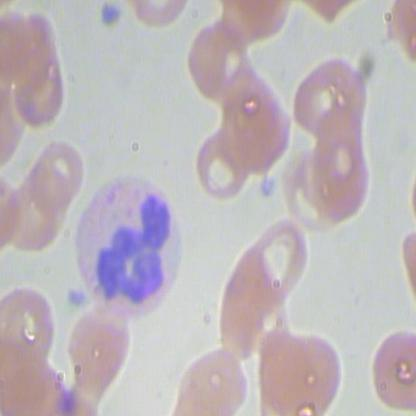Platelets: (64, 285, 90, 312), (256, 172, 281, 199), (97, 1, 122, 26)
RBC: (287, 51, 376, 141), (264, 324, 350, 415), (306, 124, 376, 228), (179, 19, 255, 109), (10, 10, 65, 127), (177, 337, 253, 415), (11, 141, 84, 221), (246, 216, 313, 302), (1, 171, 73, 250), (362, 311, 415, 415), (188, 123, 255, 203), (221, 70, 288, 150)
WBC: (70, 168, 183, 322)
